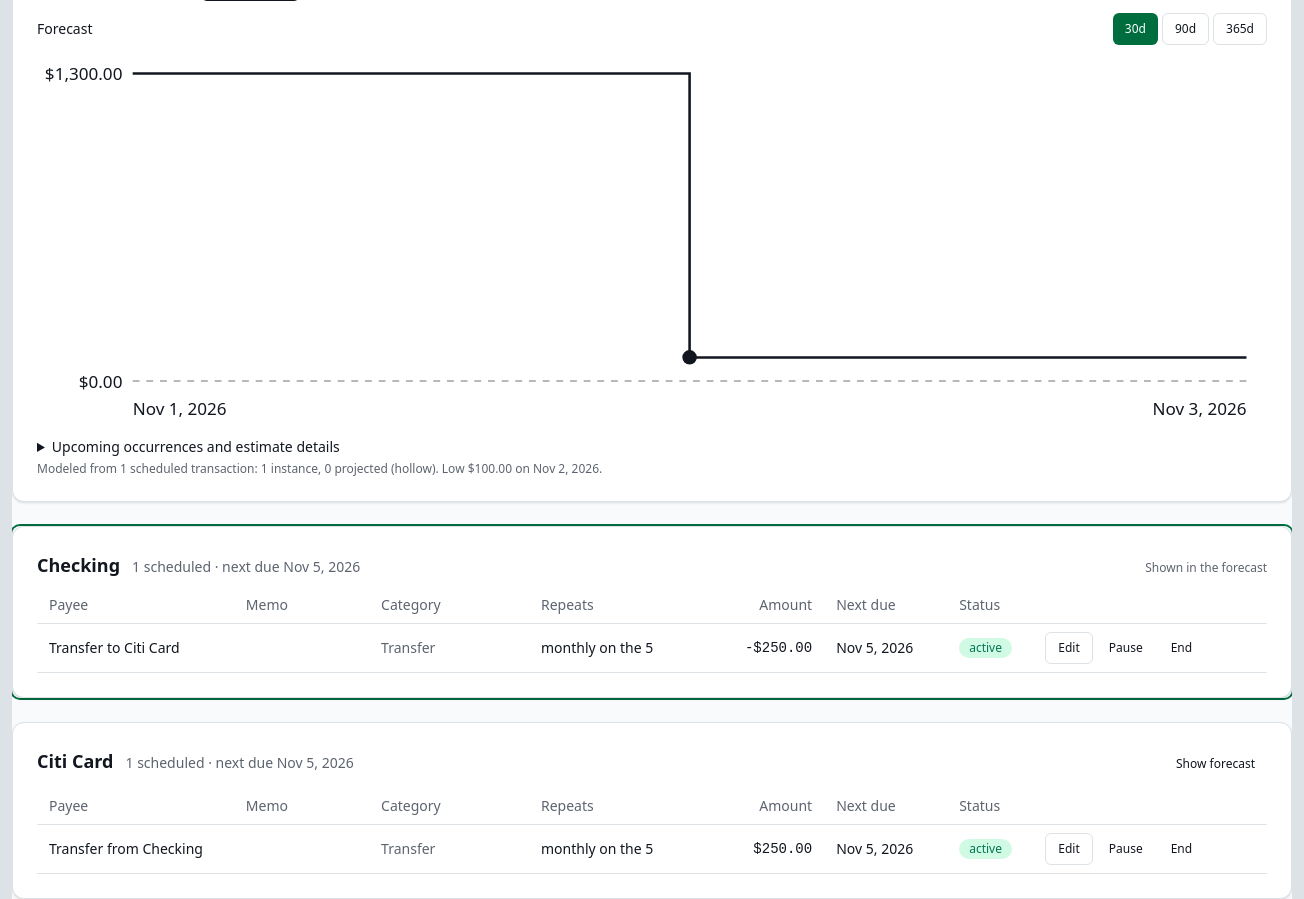
Test: Scheduled transactions page (#535) › puts the forecast first and follows a group's Show forecast
The image size is (1304, 899).
(page scrolled)
Click the button "Show forecast": {"x": 1216, "y": 764} [1164,748,1267,780]
(page scrolled)
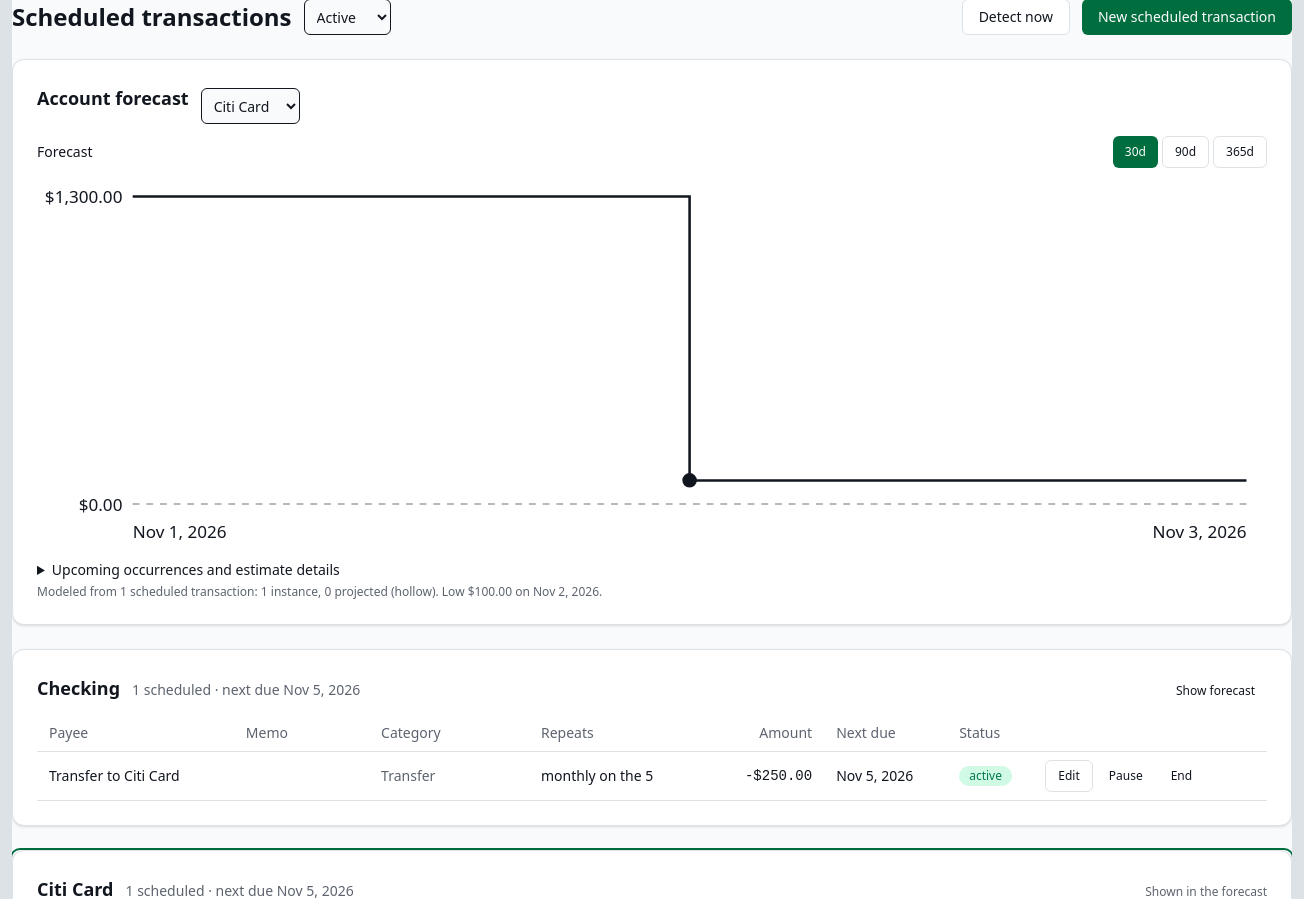
Expected: the text "Shown in the forecast" is shown, [1145,884,1267,898]
Expected: the dropdown named "Forecast account" shows "Citi Card", [201,88,300,124]
